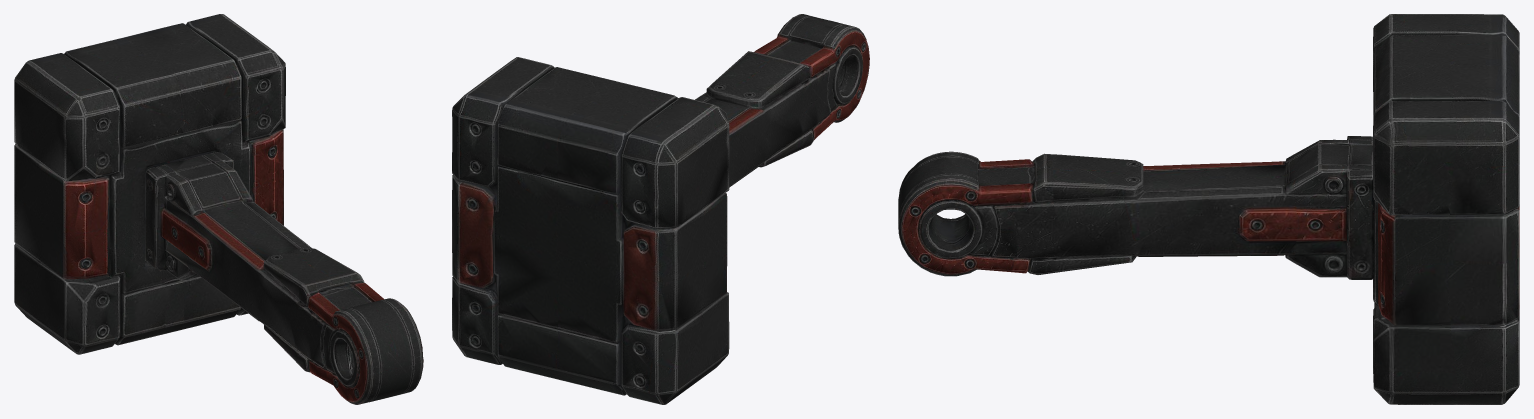
File: new_hammer.glb
3 renders of one model, left to right at view 1: azimuth 30°, elevation 25°; view 2: azimuth 150°, elevation 25°; view 3: azimuth 270°, elevation 25°, orthographic. The views are drawn at different scales.
Parts seen in each view (by area): view 1: mesh_node; view 2: mesh_node; view 3: mesh_node.
Part boxes in pixels (left/top/right/bottom): mesh_node: left=14, top=14, right=423, bottom=404; mesh_node: left=452, top=14, right=869, bottom=404; mesh_node: left=898, top=14, right=1519, bottom=404.
Bounding box in the file's own units: 0.8673 × 0.9678 × 1.9.
1 material, 1 textured.
